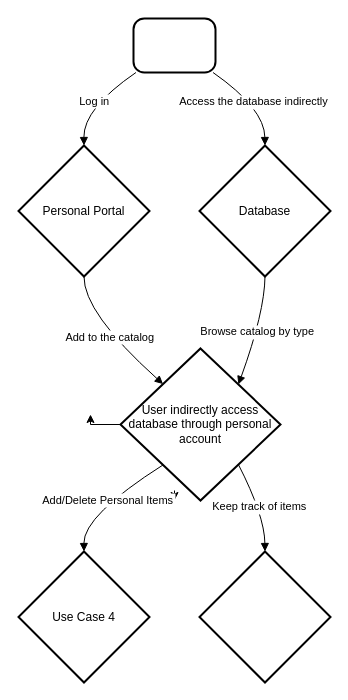
This 348x700 diagram has some shape labels left out. Each missing label, with the centre of its shape:
Use Case 5: point 264,616
User: point 174,45
